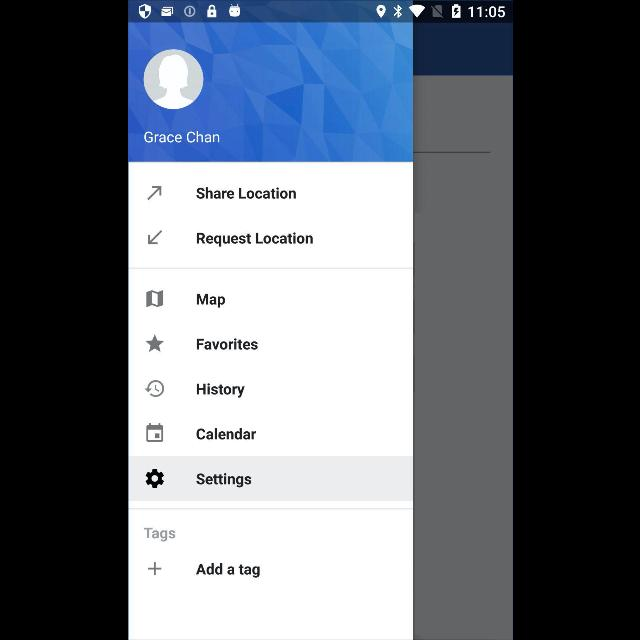icon: (142, 50, 204, 110), (144, 468, 164, 488), (144, 334, 164, 352), (144, 379, 164, 396), (145, 290, 163, 308), (146, 423, 162, 443), (146, 186, 162, 200), (147, 562, 161, 576), (147, 230, 161, 244)
panel: (128, 23, 412, 639)
text: (195, 232, 312, 248), (196, 187, 296, 199), (143, 130, 219, 144), (195, 562, 259, 578), (195, 474, 251, 488), (196, 382, 244, 398), (196, 338, 258, 350), (196, 428, 256, 440), (143, 528, 175, 542), (196, 294, 224, 308)
uppertaskbar: (128, 1, 512, 23)
